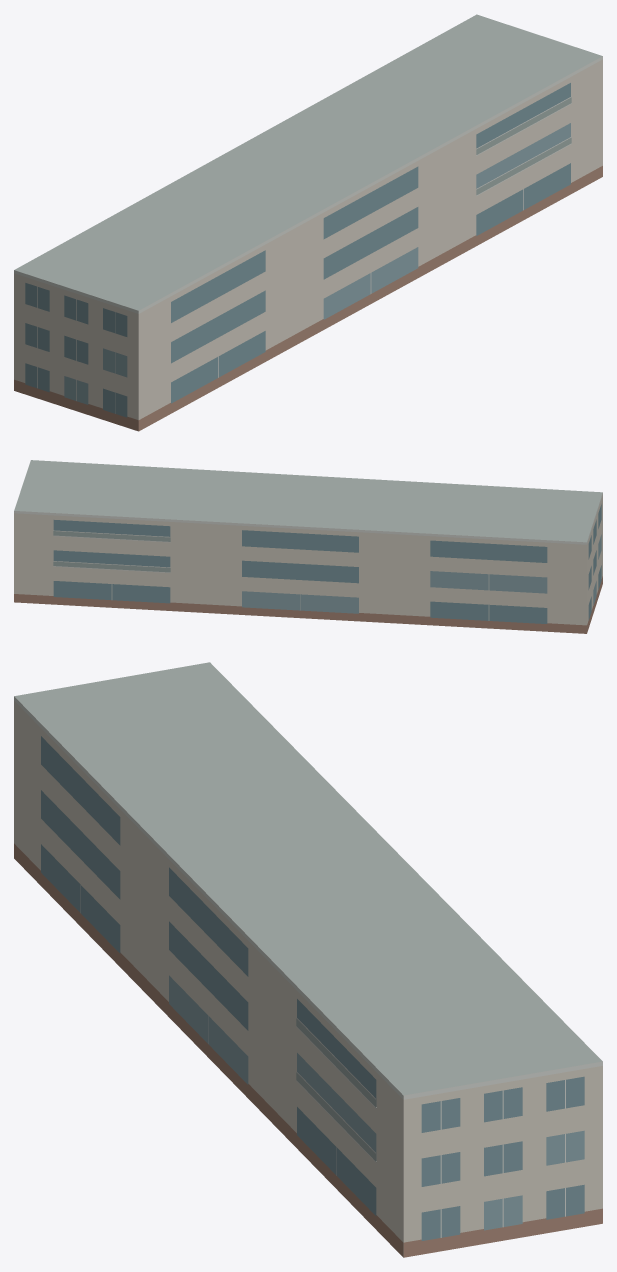
File: survey-upis-32736853.glb
3 views of the same model, one above another, from view 1: azimuth 30°, elevation 25°; view 2: azimuth 150°, elevation 25°; view 3: azimuth 270°, elevation 25° (orthographic). The views are drawn at different scales.
Visible parts, largest first — view 1: survey-upis-32736853.tmp; view 2: survey-upis-32736853.tmp; view 3: survey-upis-32736853.tmp.
Boxes of the visible parts, x1,y1,x2,y2 form: survey-upis-32736853.tmp: (14, 14, 602, 431); survey-upis-32736853.tmp: (14, 460, 602, 633); survey-upis-32736853.tmp: (14, 662, 602, 1257).
Size of the model in its own units: 52.44 by 9.15 by 30.12.
